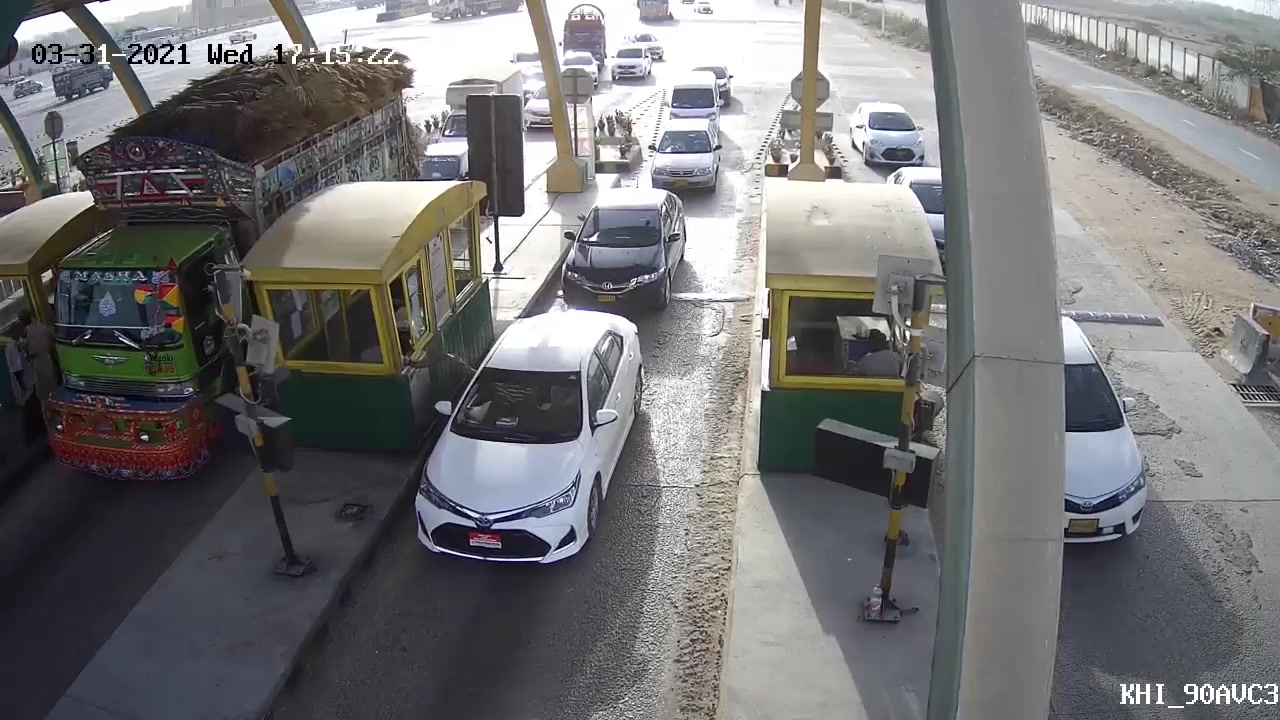F1: (401, 308, 651, 570), (550, 185, 686, 307)
